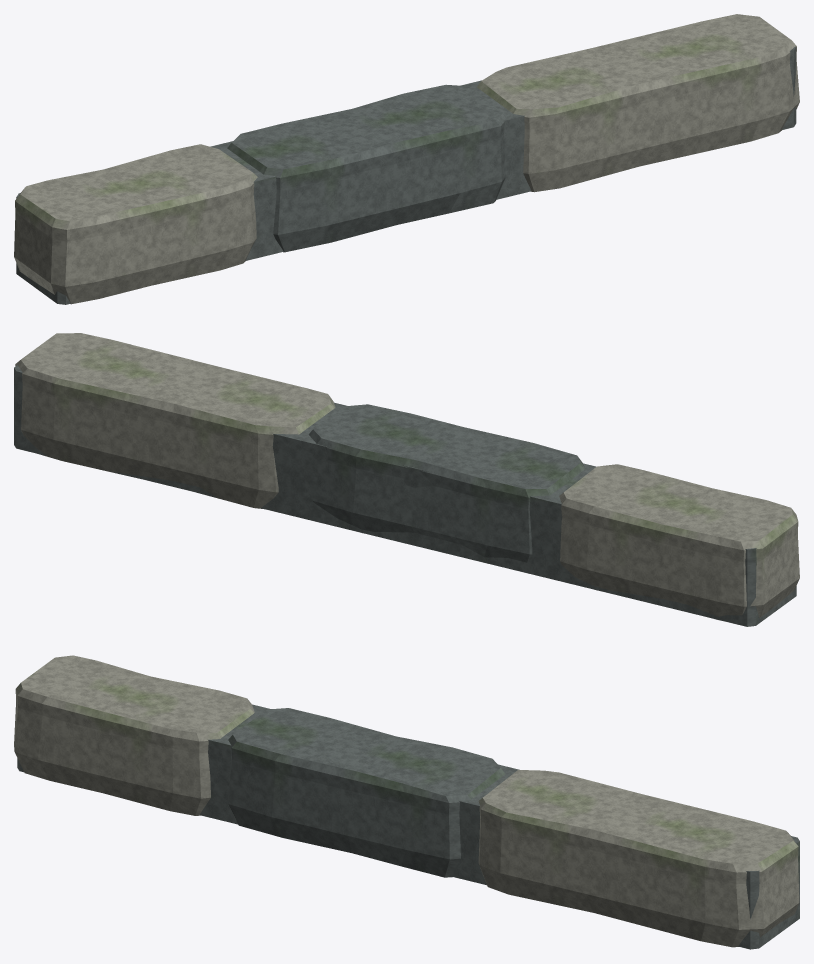
The model's file is stair-tread-b.glb.
3 renders of one model, top to bottom at view 1: azimuth 30°, elevation 25°; view 2: azimuth 150°, elevation 25°; view 3: azimuth 330°, elevation 25°, orthographic.
Visible parts, largest first — view 1: Hand-dressed granite nosing, three individual voussoirs and ; view 2: Hand-dressed granite nosing, three individual voussoirs and ; view 3: Hand-dressed granite nosing, three individual voussoirs and .
Boxes of the visible parts, box(x1,y1,x2,y2) form: Hand-dressed granite nosing, three individual voussoirs and : box(14, 14, 799, 304); Hand-dressed granite nosing, three individual voussoirs and : box(14, 333, 799, 626); Hand-dressed granite nosing, three individual voussoirs and : box(14, 655, 799, 949).
Size of the model in its own units: 3 by 0.32 by 0.38.
1 material, 1 textured.
